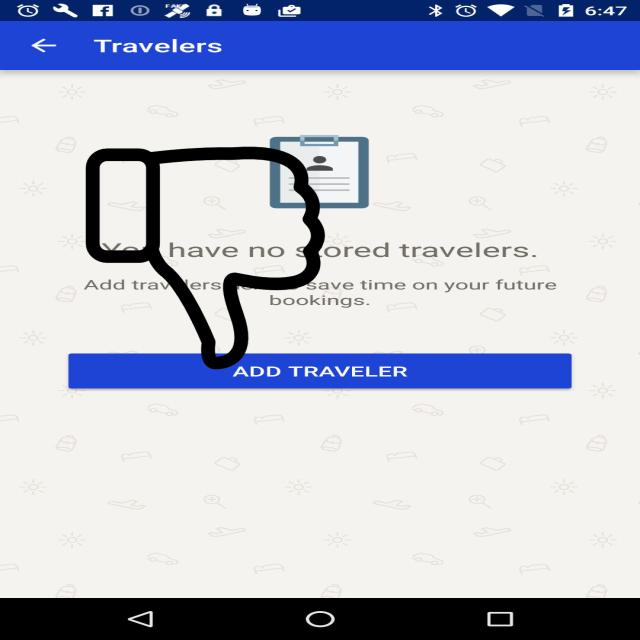obstruction: (82, 147, 328, 369)
